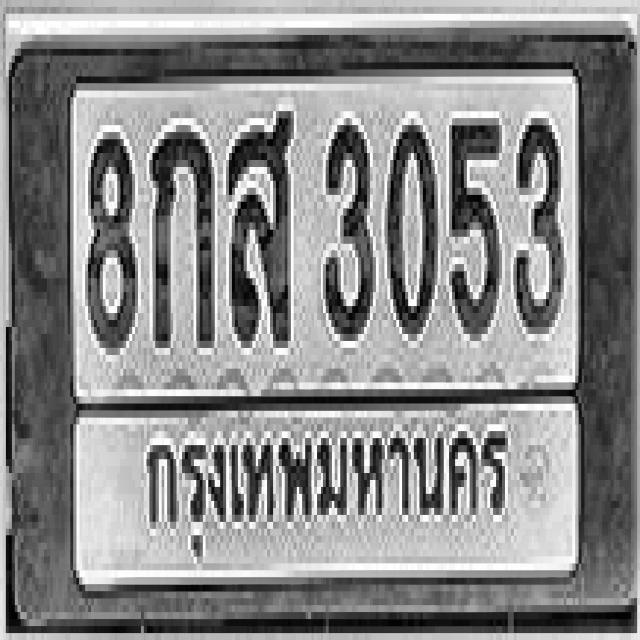license-plate: (10, 35, 638, 620)
